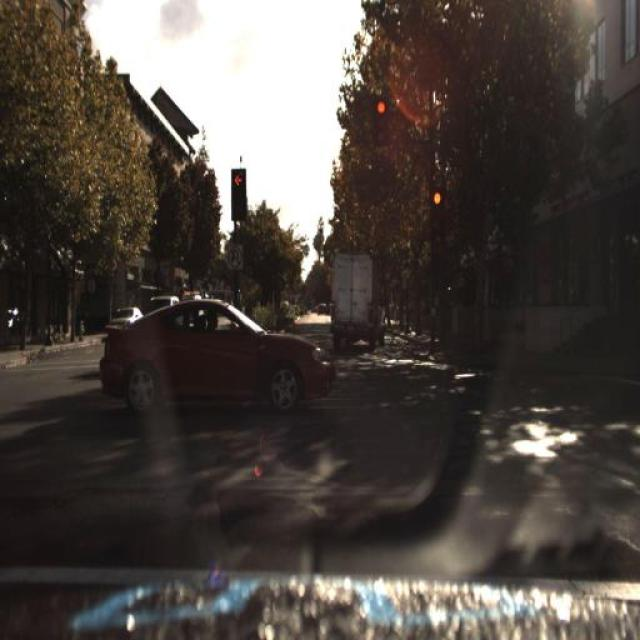car: (96, 284, 340, 424), (330, 248, 389, 352), (110, 299, 148, 340), (108, 302, 146, 339)
trafficLight-Green: (376, 100, 385, 140)
trafficLight-RedLeft: (432, 190, 442, 234)
trafficLight-Yellow: (233, 168, 247, 214)
